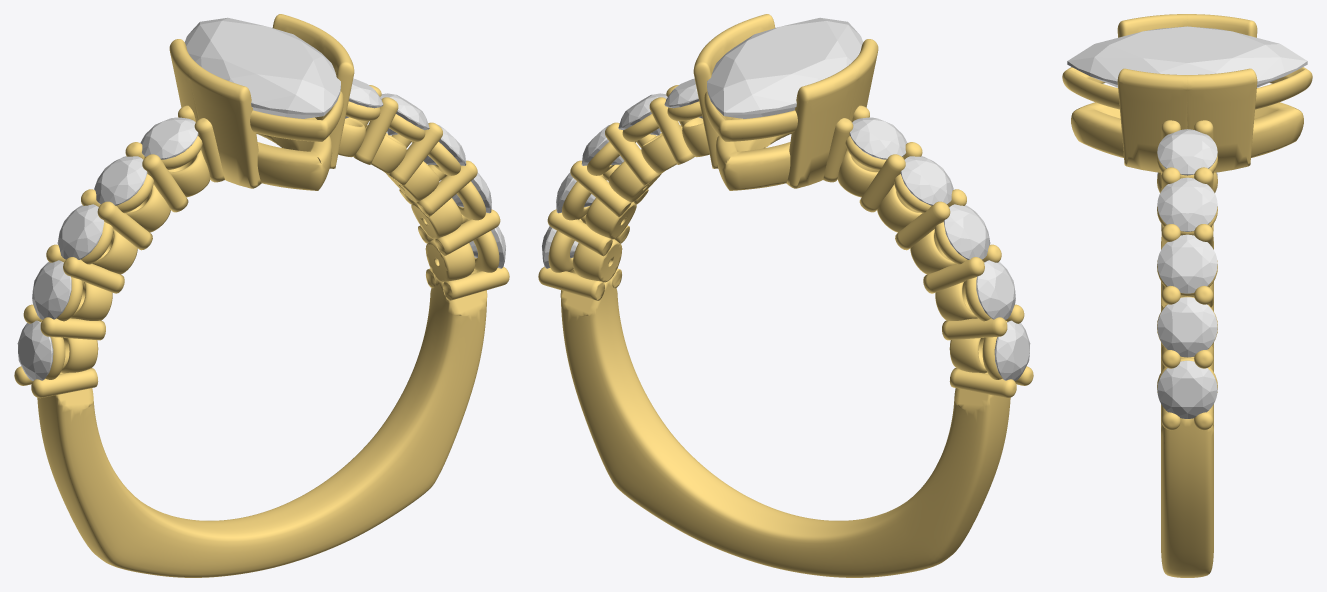
File: diamond-marquise-yellowgold-halfmoonbezel-europeanshank-11stone.glb
3 renders of one model, left to right at view 1: azimuth 30°, elevation 25°; view 2: azimuth 150°, elevation 25°; view 3: azimuth 270°, elevation 25°, orthographic. The views are drawn at different scales.
Visible parts, largest first — view 1: metal.003, stone.002, dia.024, dia.025, dia.023, dia.026, dia.002, dia.030, dia.031; view 2: metal.003, stone.002, dia.024, dia.025, dia.023, dia.026, dia.002, dia.030, dia.031; view 3: metal.003, stone.002, dia.028, dia.029, dia.027, dia.030, dia.031.
Part boxes in pixels (<box>): metal.003: <box>14,14,509,577</box>; stone.002: <box>184,17,340,118</box>; dia.024: <box>57,204,104,259</box>; dia.025: <box>94,156,147,205</box>; dia.023: <box>32,260,71,319</box>; dia.026: <box>140,117,198,159</box>; dia.002: <box>17,320,53,380</box>; dia.030: <box>380,93,429,135</box>; dia.031: <box>345,78,383,118</box>; metal.003: <box>538,14,1033,577</box>; stone.002: <box>707,17,863,118</box>; dia.024: <box>943,204,990,259</box>; dia.025: <box>900,156,953,205</box>; dia.023: <box>976,260,1015,319</box>; dia.026: <box>849,117,907,159</box>; dia.002: <box>994,320,1030,380</box>; dia.030: <box>618,93,667,135</box>; dia.031: <box>664,78,702,118</box>; metal.003: <box>1062,14,1312,577</box>; stone.002: <box>1067,26,1307,87</box>; dia.028: <box>1157,297,1217,357</box>; dia.029: <box>1157,234,1217,293</box>; dia.027: <box>1157,360,1217,418</box>; dia.030: <box>1157,177,1217,231</box>; dia.031: <box>1157,129,1217,175</box>.
Bounding box in the file's own units: 22.1 × 22.73 × 10.4.
